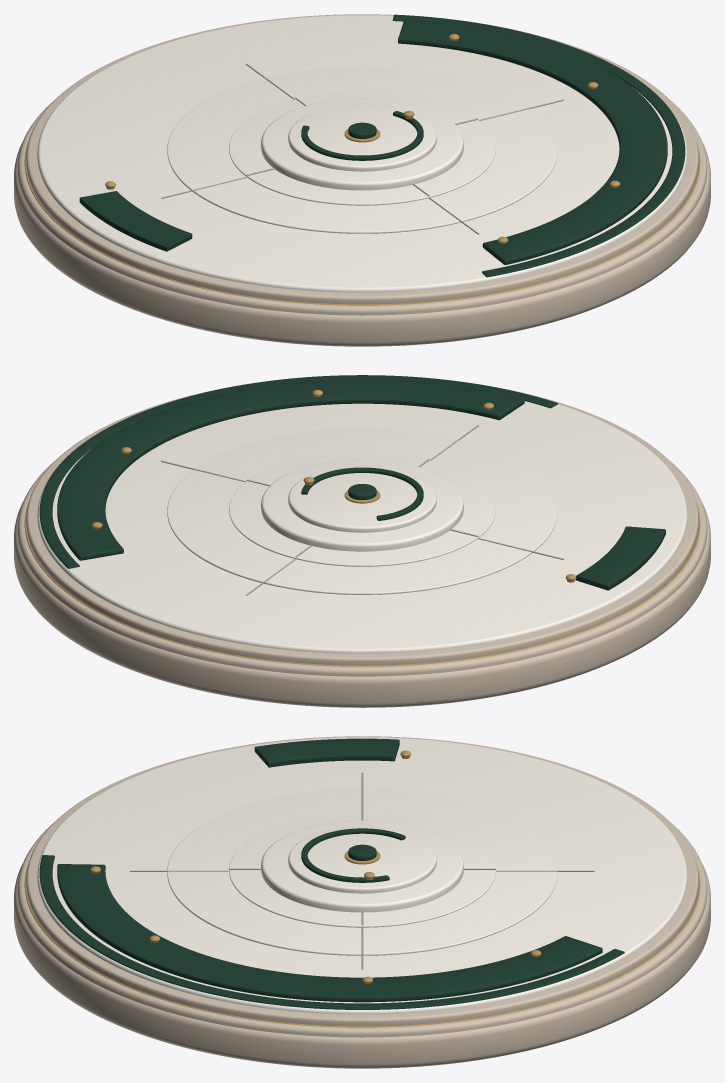
File: reflow-orb-browser-converged-v1.glb
3 renders of one model, top to bottom at view 1: azimuth 30°, elevation 25°; view 2: azimuth 150°, elevation 25°; view 3: azimuth 270°, elevation 25°, orthographic.
Parts seen in each view (by area): view 1: TopPlate, ConcentricCeramicTierOuter, ReflowBody, PrimaryForestTrack_0, UpperSidewall, ConcentricCeramicTierInner, LowerSidewall, CenterLowerPedestal, CenterUpperPedestal, SecondaryForestTrack_0, PrimaryForestTrack_1, SidewallBrassReveal (+1 smaller); view 2: TopPlate, ConcentricCeramicTierOuter, ReflowBody, PrimaryForestTrack_0, UpperSidewall, ConcentricCeramicTierInner, LowerSidewall, CenterLowerPedestal, CenterUpperPedestal, SecondaryForestTrack_0, PrimaryForestTrack_1, SidewallBrassReveal (+1 smaller); view 3: TopPlate, ConcentricCeramicTierOuter, ReflowBody, PrimaryForestTrack_0, UpperSidewall, ConcentricCeramicTierInner, LowerSidewall, CenterLowerPedestal, CenterUpperPedestal, SecondaryForestTrack_0, PrimaryForestTrack_1, SidewallBrassReveal (+1 smaller).
Boxes of the visible parts, x1,y1,x2,y2 form: TopPlate: (37, 15, 687, 292); ConcentricCeramicTierOuter: (167, 67, 557, 233); ReflowBody: (14, 142, 710, 346); PrimaryForestTrack_0: (398, 19, 667, 264); UpperSidewall: (26, 14, 698, 304); ConcentricCeramicTierInner: (229, 91, 495, 205); LowerSidewall: (17, 100, 707, 315); CenterLowerPedestal: (261, 98, 463, 190); CenterUpperPedestal: (288, 104, 436, 171); SecondaryForestTrack_0: (392, 14, 685, 277); PrimaryForestTrack_1: (79, 191, 192, 251); SidewallBrassReveal: (24, 143, 700, 305); TopPlate: (37, 401, 687, 653); ConcentricCeramicTierOuter: (167, 428, 557, 594); ReflowBody: (14, 501, 710, 707); PrimaryForestTrack_0: (57, 379, 524, 560); UpperSidewall: (26, 386, 698, 665); ConcentricCeramicTierInner: (229, 452, 495, 566); LowerSidewall: (17, 462, 707, 676); CenterLowerPedestal: (261, 459, 463, 551); CenterUpperPedestal: (288, 465, 436, 532); SecondaryForestTrack_0: (39, 375, 557, 568); PrimaryForestTrack_1: (576, 526, 665, 590); SidewallBrassReveal: (24, 503, 700, 666); TopPlate: (37, 737, 687, 1014); ConcentricCeramicTierOuter: (167, 789, 557, 955); ReflowBody: (14, 864, 710, 1068); PrimaryForestTrack_0: (57, 864, 602, 1002); UpperSidewall: (26, 736, 698, 1026); ConcentricCeramicTierInner: (229, 813, 495, 927); LowerSidewall: (17, 822, 707, 1037); CenterLowerPedestal: (261, 820, 463, 912); CenterUpperPedestal: (288, 826, 436, 893); SecondaryForestTrack_0: (39, 855, 624, 1009); PrimaryForestTrack_1: (254, 738, 399, 767); SidewallBrassReveal: (24, 865, 700, 1027).
Bounding box in the file's own units: 5.64 × 0.6759 × 5.64.
